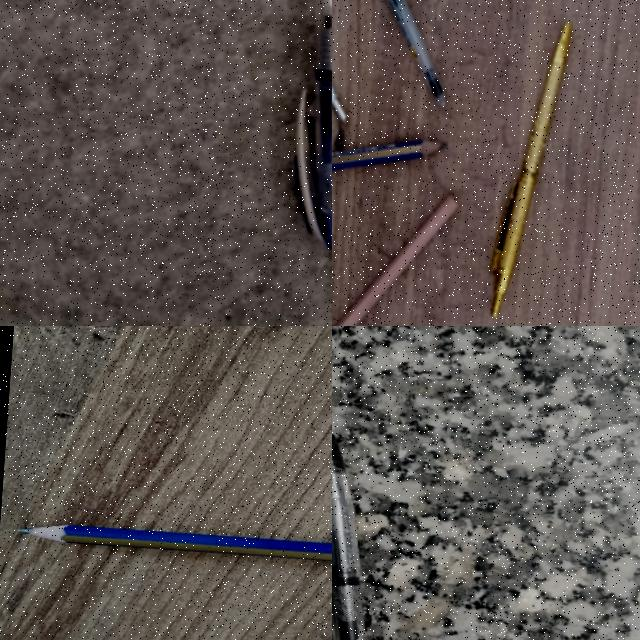pen: (293, 0, 332, 249), (387, 0, 448, 110), (332, 435, 363, 639)
pencil: (335, 195, 457, 326), (19, 525, 331, 559), (332, 120, 442, 210)
signature pen: (493, 20, 572, 321)
